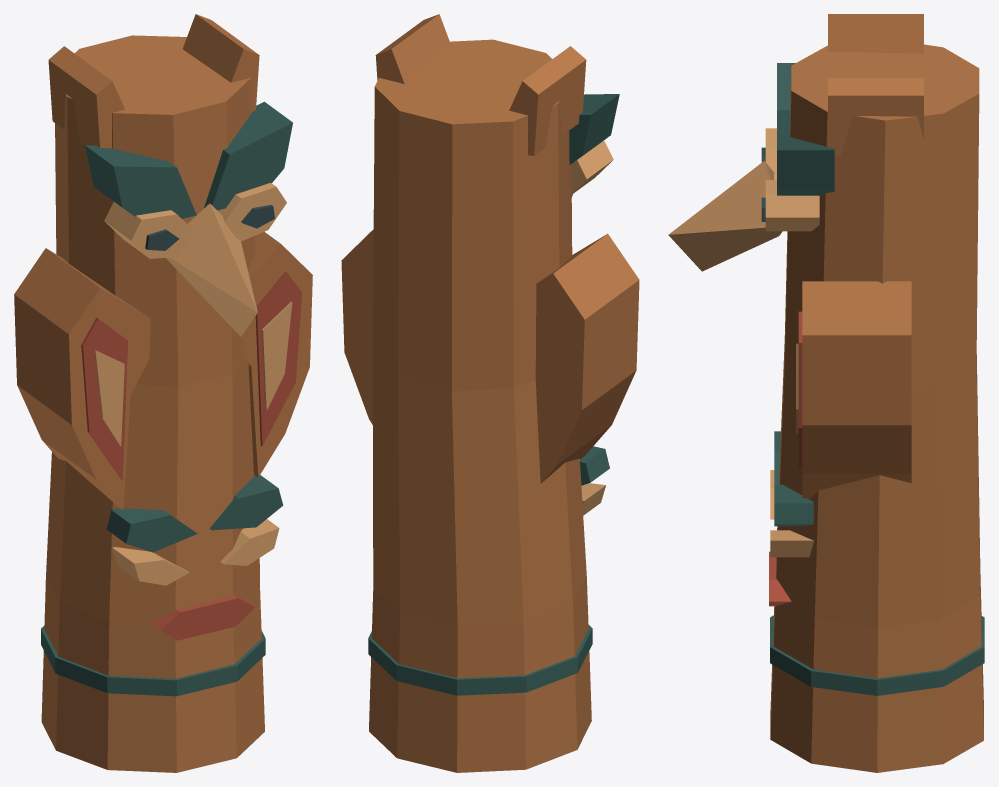
The model's file is totem-pole.glb.
3 renders of one model, left to right at view 1: azimuth 30°, elevation 25°; view 2: azimuth 150°, elevation 25°; view 3: azimuth 270°, elevation 25°, orthographic.
Parts seen in each view (by area): view 1: totem-pole; view 2: totem-pole; view 3: totem-pole.
Part boxes in pixels (box(x1,y1,x2,y2)): totem-pole: box(14, 14, 312, 772); totem-pole: box(341, 14, 639, 772); totem-pole: box(668, 14, 984, 772).
Bounding box in the file's own units: 0.416 × 1.11 × 0.4678.
